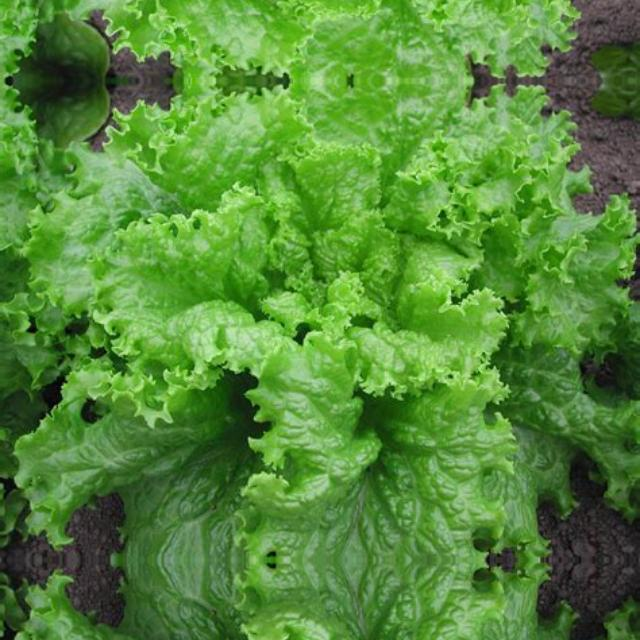healthy: (58, 86, 600, 548), (57, 0, 600, 74), (57, 571, 600, 640)
